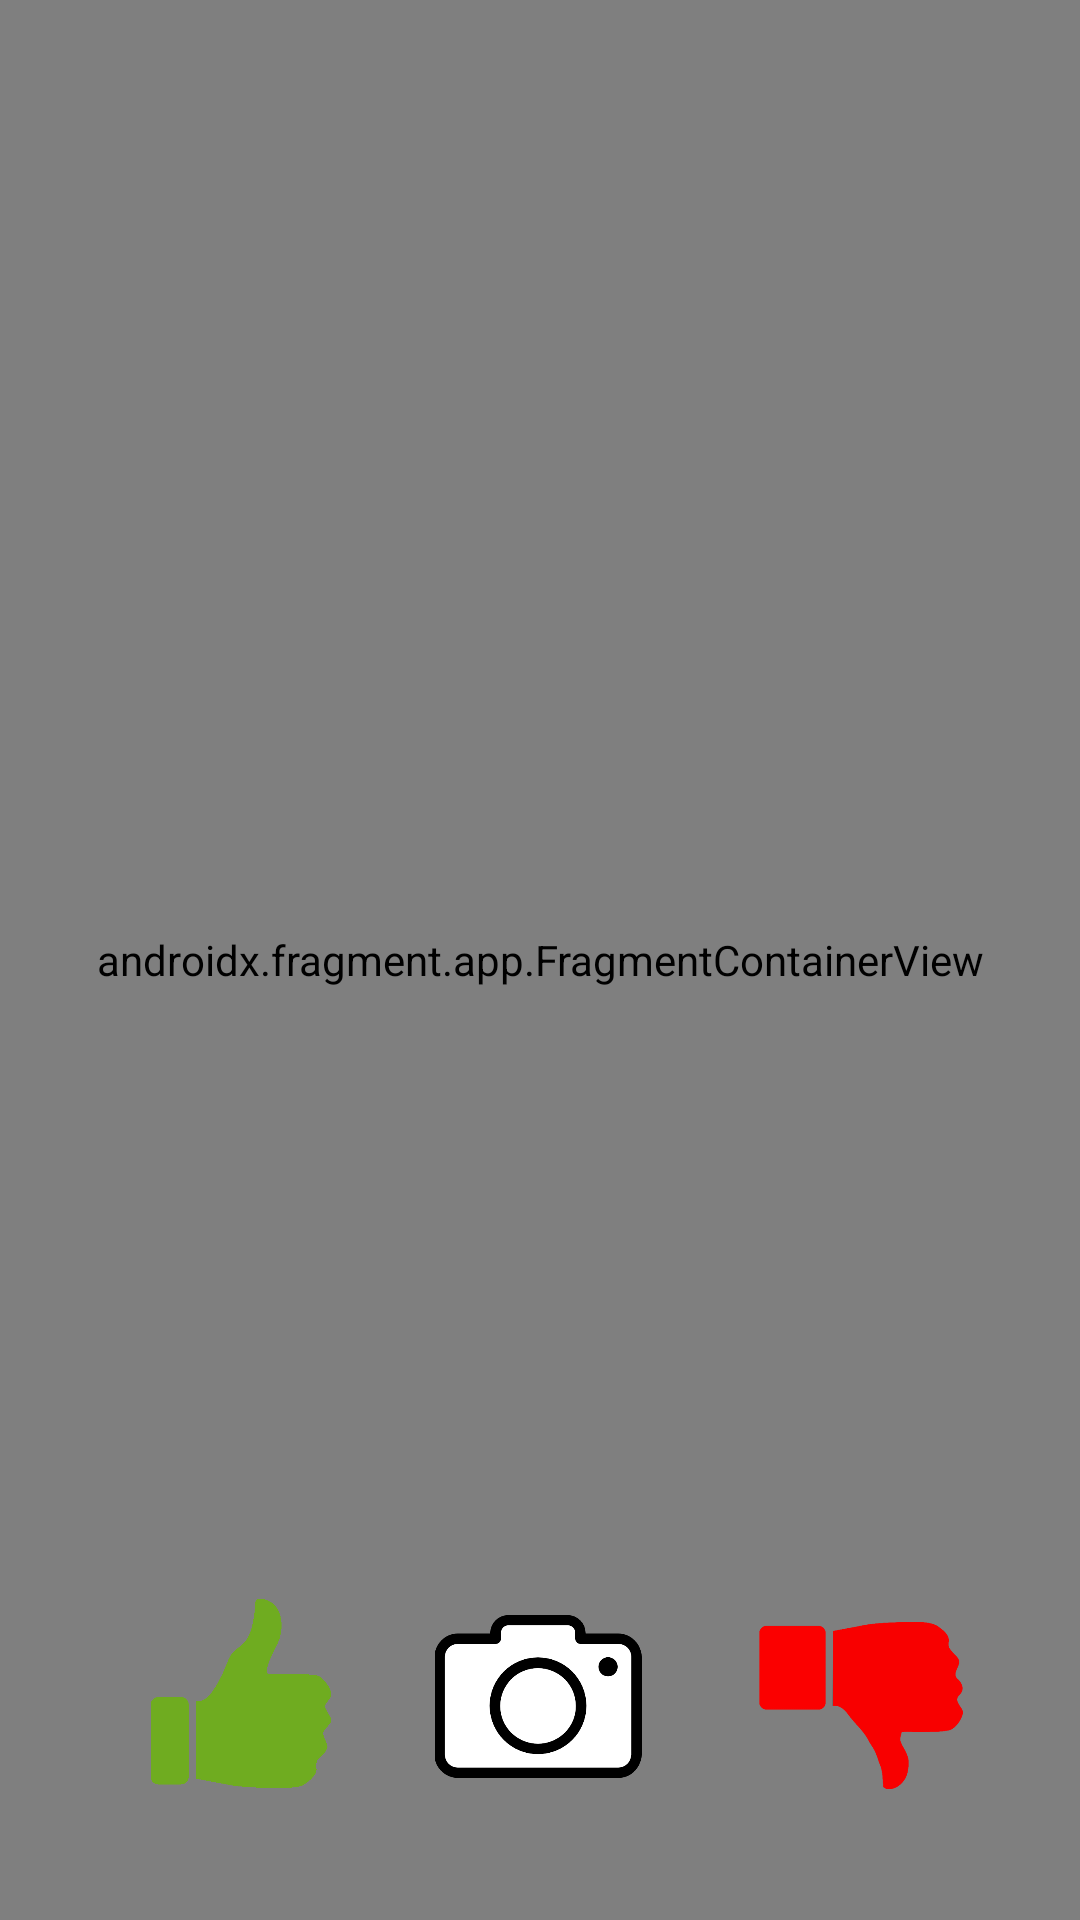

Named icons in this screenshot (1080x1920) and their centers, [x,y]:
thumbsdown: [861,1705]
thumbsup: [241,1693]
whitecamera: [538,1696]
